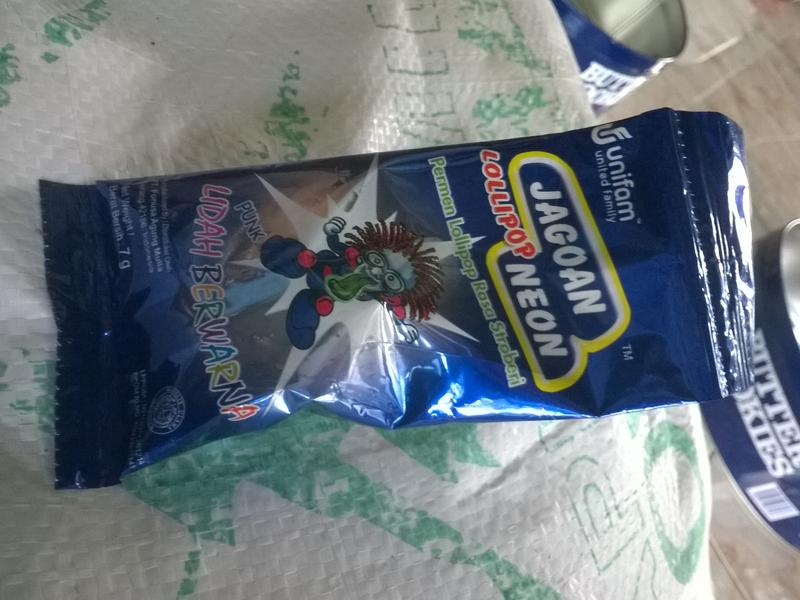jagoan neon: (38, 107, 734, 490)
